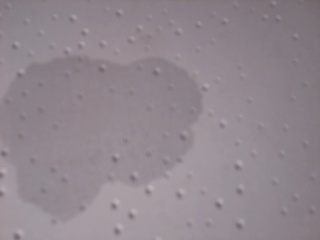Water_detected: (36, 71, 185, 199)
